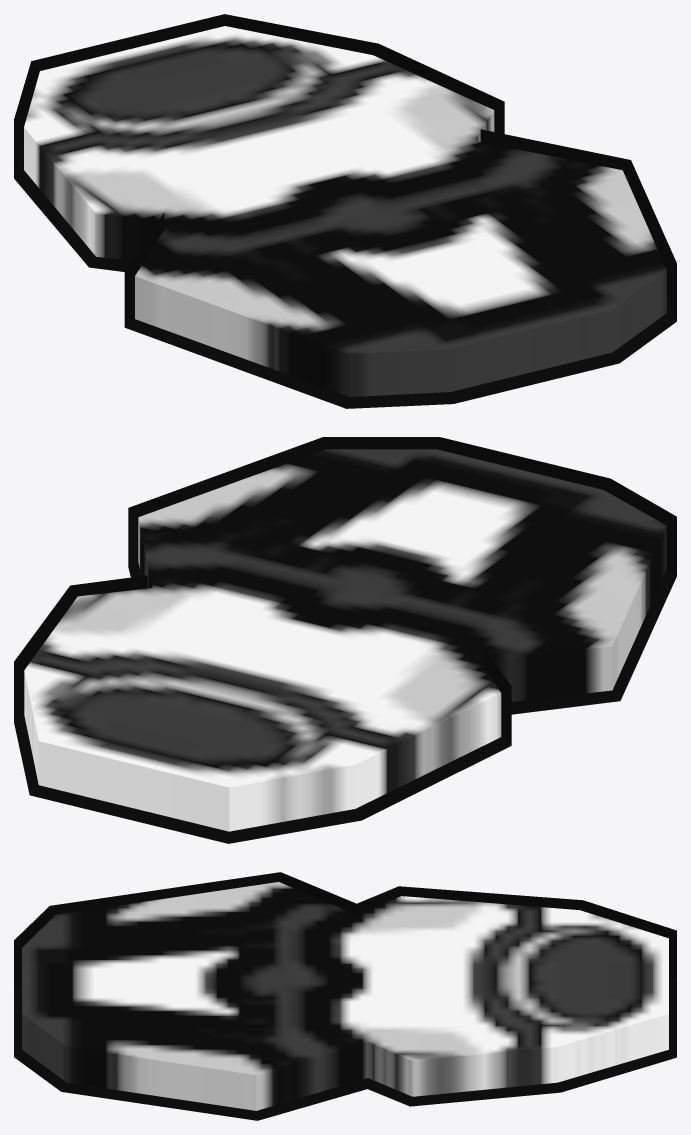
File: Item_Apparel_PowerArmor_Things_Pawn_Humanlike_Apparel_PowerArmor_PowerArmor_Female.glb
The picture shows the model from 3 angles, top to bottom: view 1: azimuth 30°, elevation 25°; view 2: azimuth 150°, elevation 25°; view 3: azimuth 270°, elevation 25°; orthographic projection. The views are drawn at different scales.
Visible parts, largest first — view 1: Body, Outline; view 2: Body, Outline; view 3: Body, Outline.
Part boxes in pixels (x1=…): Body: x1=24, y1=26, x2=666, y2=396; Outline: x1=14, y1=14, x2=676, y2=408; Body: x1=24, y1=449, x2=666, y2=831; Outline: x1=14, y1=437, x2=676, y2=843; Body: x1=22, y1=882, x2=668, y2=1110; Outline: x1=14, y1=872, x2=676, y2=1120.
Bounding box in the file's own units: 0.3325 × 0.0418 × 0.4643.
2 materials, 1 textured.
